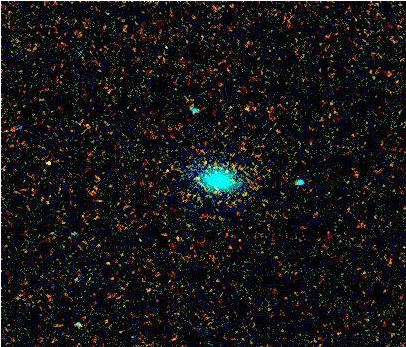star: (31, 145, 61, 175)
